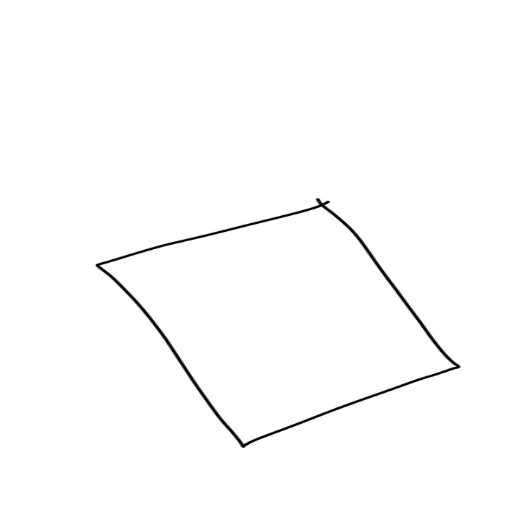square: (93, 197, 468, 445)
